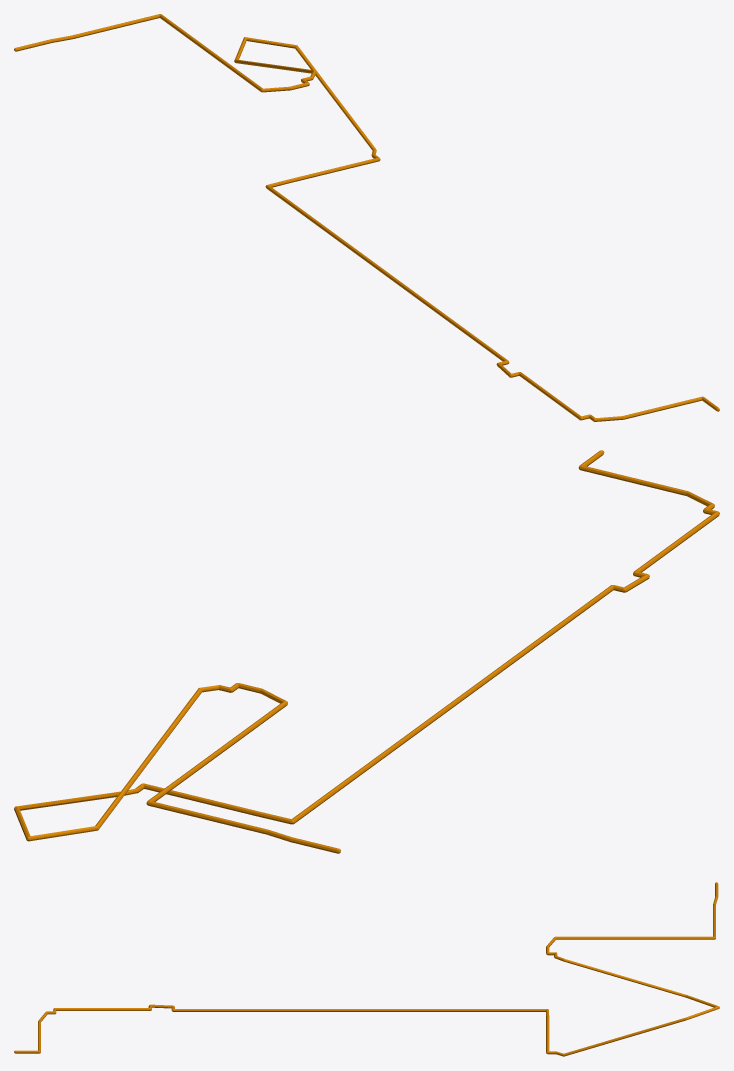
3 renders of one model, top to bottom at view 1: azimuth 30°, elevation 25°; view 2: azimuth 150°, elevation 25°; view 3: azimuth 270°, elevation 25°, orthographic. The views are drawn at different scales.
Size of the model in its own units: 1495 by 520 by 4435.
